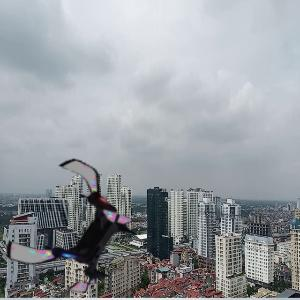drone: (10, 159, 145, 294)
